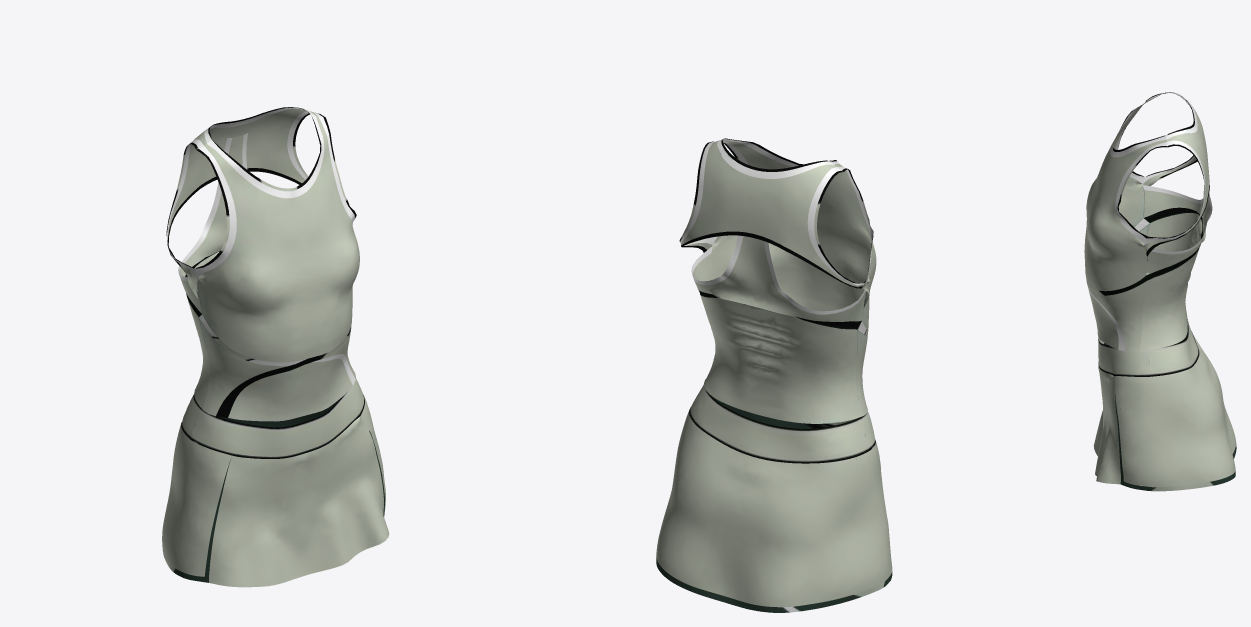
3 views of the same model, side by side, from view 1: azimuth 30°, elevation 25°; view 2: azimuth 150°, elevation 25°; view 3: azimuth 270°, elevation 25° (orthographic). The views are drawn at different scales.
Parts seen in each view (by area): view 1: NB; view 2: NB; view 3: NB.
Part boxes in pixels (<box>): NB: <box>162,107,389,587</box>; NB: <box>656,138,892,612</box>; NB: <box>1084,92,1236,491</box>.
Size of the model in its own units: 0.8031 by 0.923 by 0.2635.
Materials: 2 (1 with a texture image).
